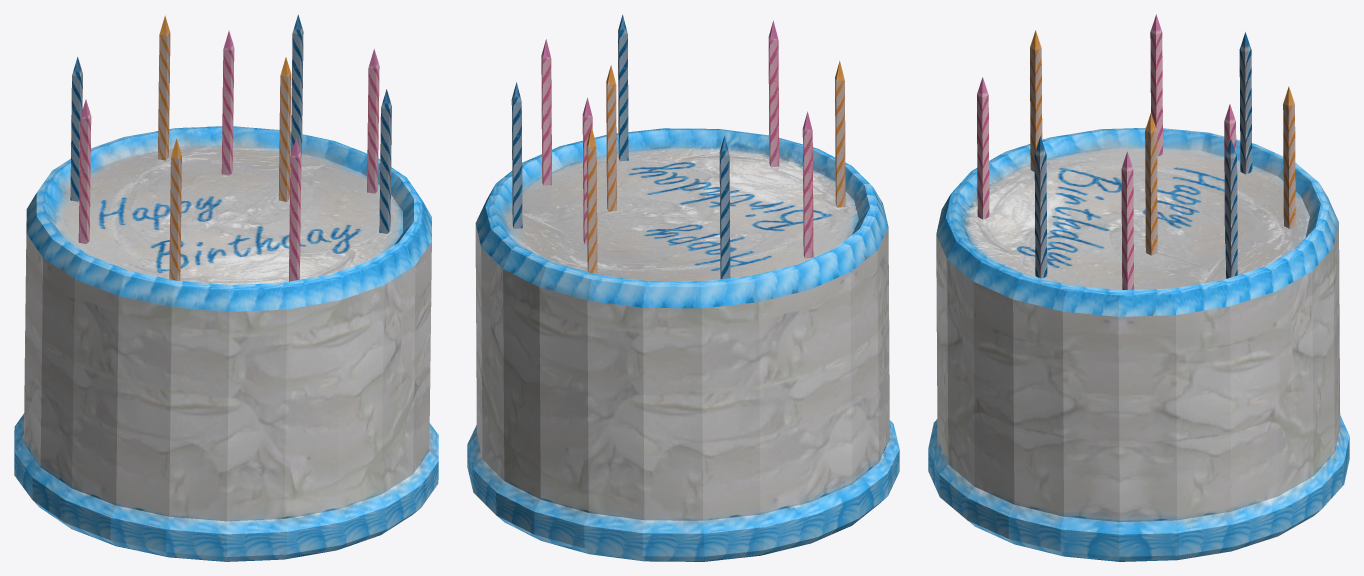
The model's file is ogreboss-shoot-boulder-lod0.glb.
3 views of the same model, side by side, from view 1: azimuth 30°, elevation 25°; view 2: azimuth 150°, elevation 25°; view 3: azimuth 270°, elevation 25° (orthographic). The views are drawn at different scales.
Visible parts, largest first — view 1: BirthdayCake01:0; view 2: BirthdayCake01:0; view 3: BirthdayCake01:0.
Boxes of the visible parts, <box> form: BirthdayCake01:0: <box>14,14,438,561</box>; BirthdayCake01:0: <box>467,14,899,561</box>; BirthdayCake01:0: <box>928,14,1349,561</box>.
Size of the model in its own units: 6.05 by 6.39 by 6.1.
Materials: 1 (1 with a texture image).
